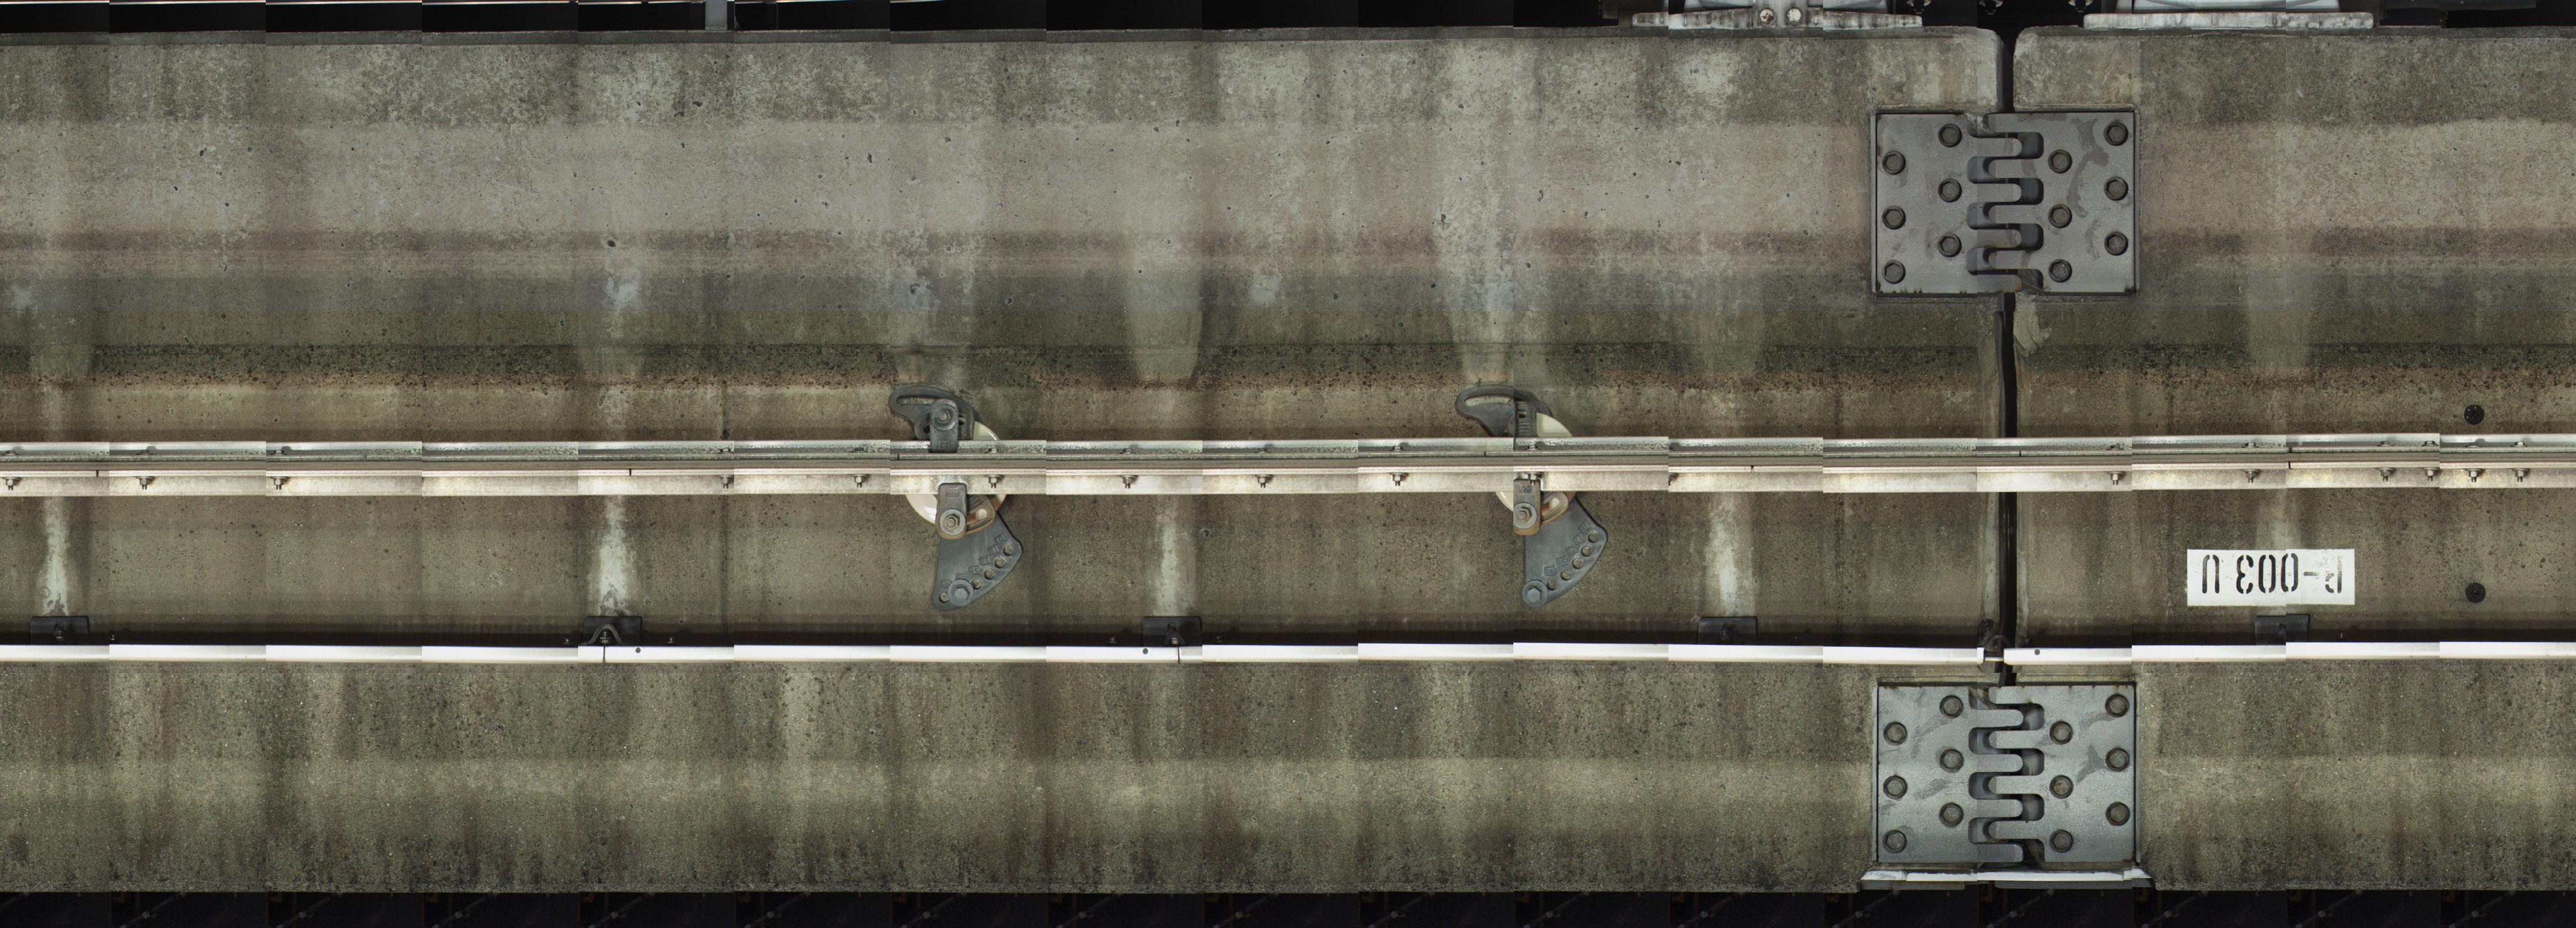concrete: (3, 34, 1989, 435), (3, 496, 2003, 892), (2016, 33, 2576, 437), (2019, 496, 2568, 887)
